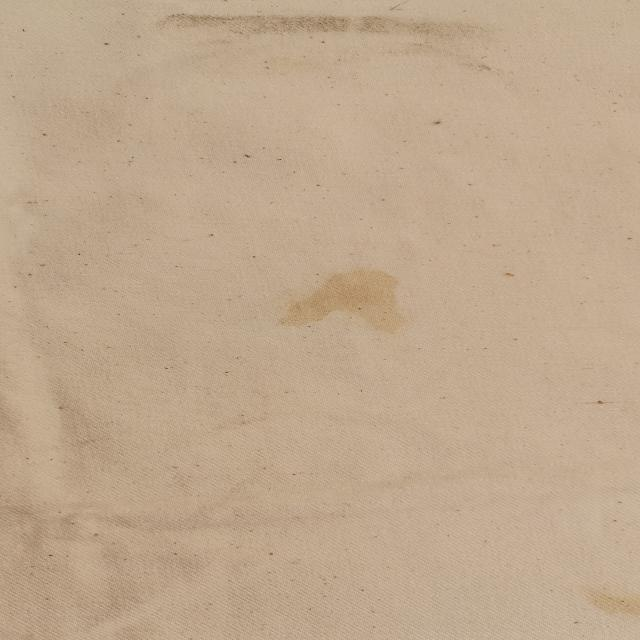taaaches: (116, 5, 554, 78), (277, 248, 407, 352)
